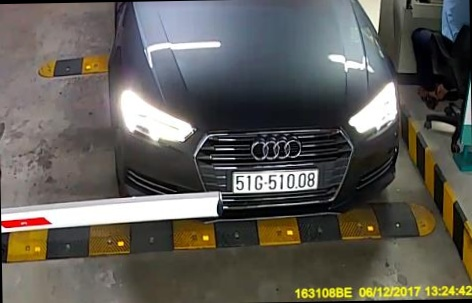plate: (227, 164, 319, 200)
